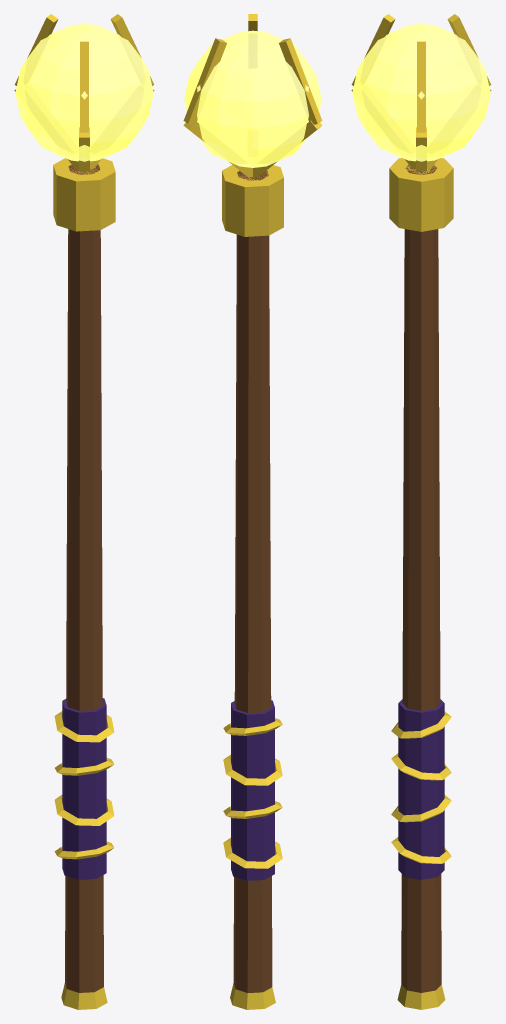
File: weapon_staff_spark_v01.glb
The picture shows the model from 3 angles, left to right: view 1: azimuth 30°, elevation 25°; view 2: azimuth 210°, elevation 25°; view 3: azimuth 270°, elevation 25°; orthographic projection.
Visible parts, largest first — view 1: weapon_staff_spark; view 2: weapon_staff_spark; view 3: weapon_staff_spark.
Part boxes in pixels (x1,y1,x2,y2): weapon_staff_spark: (14,14,154,1009); weapon_staff_spark: (183,14,322,1009); weapon_staff_spark: (351,14,491,1009).
Size of the model in its own units: 0.1596 by 1.17 by 0.1519.
